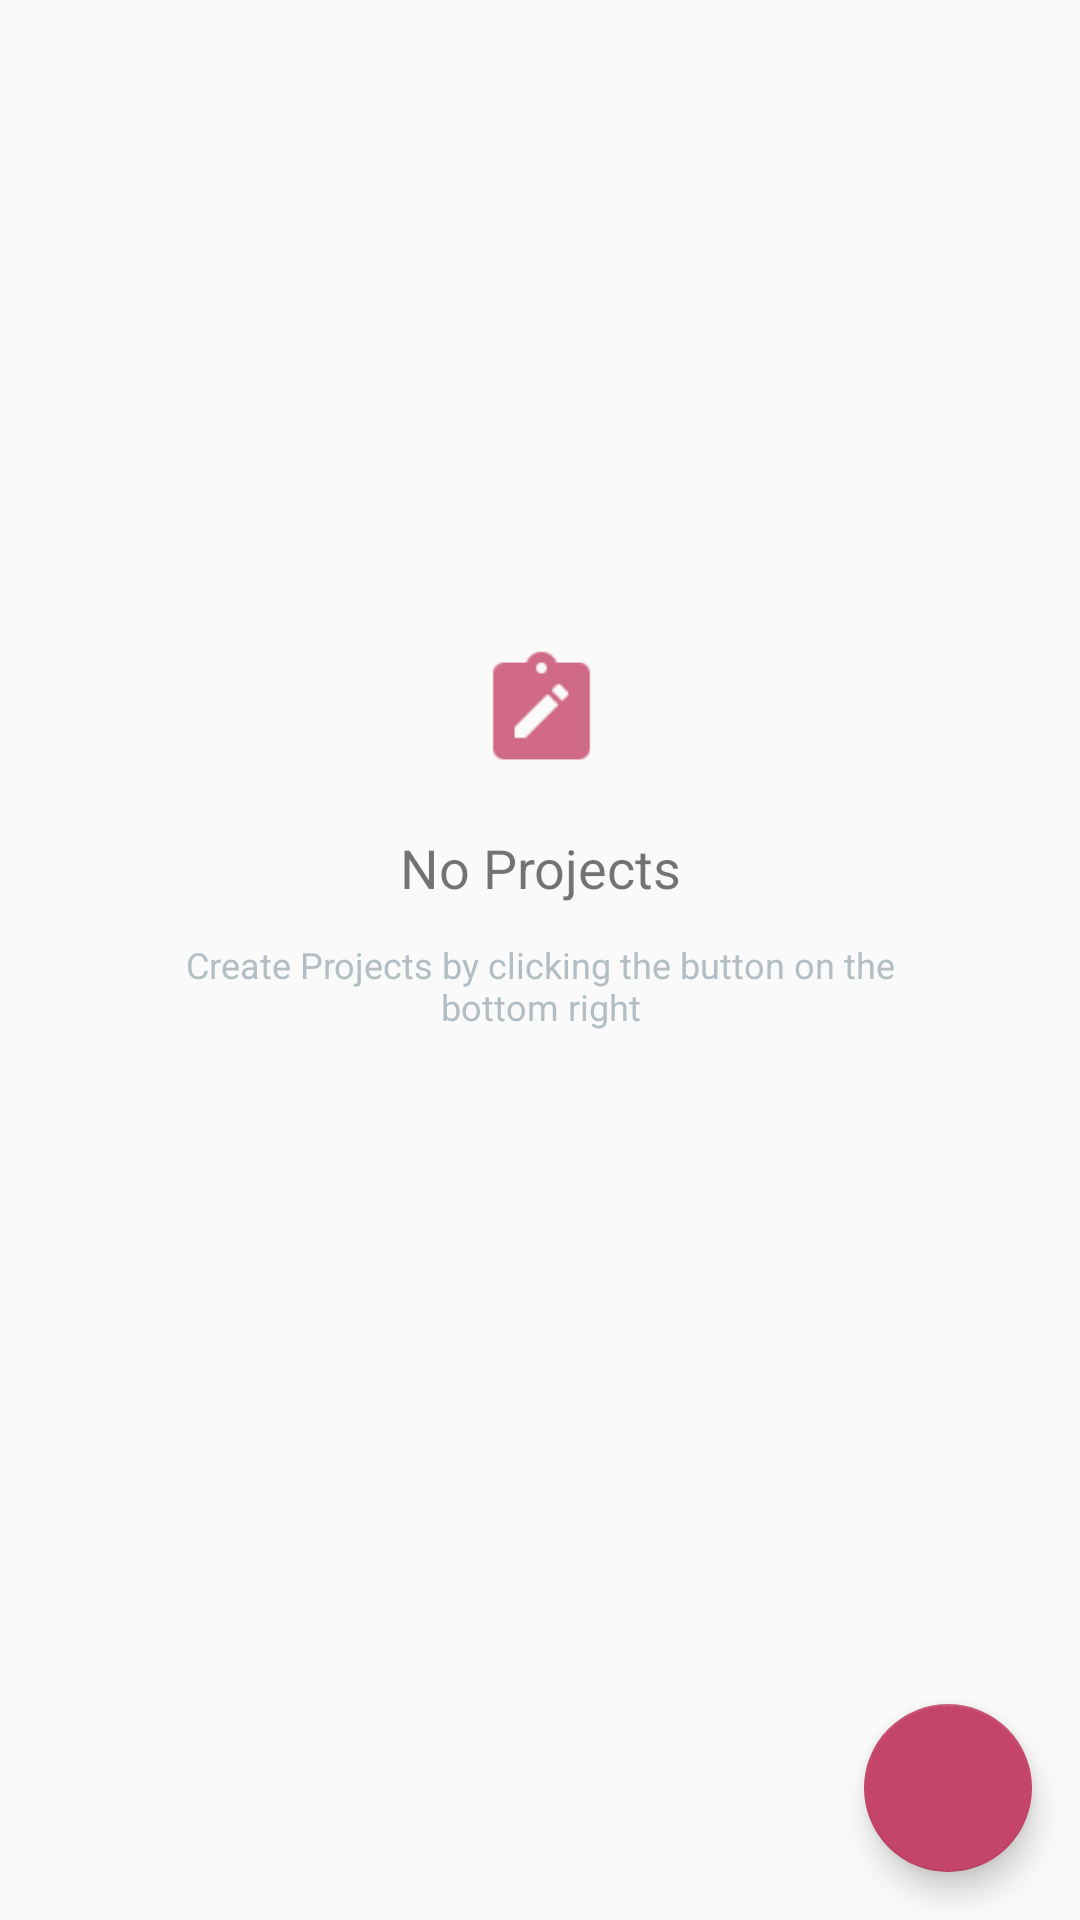

Icons on this 1080 × 1920 Android screen, each with the point to tap as [x,y]:
empty projects: [541,705]
